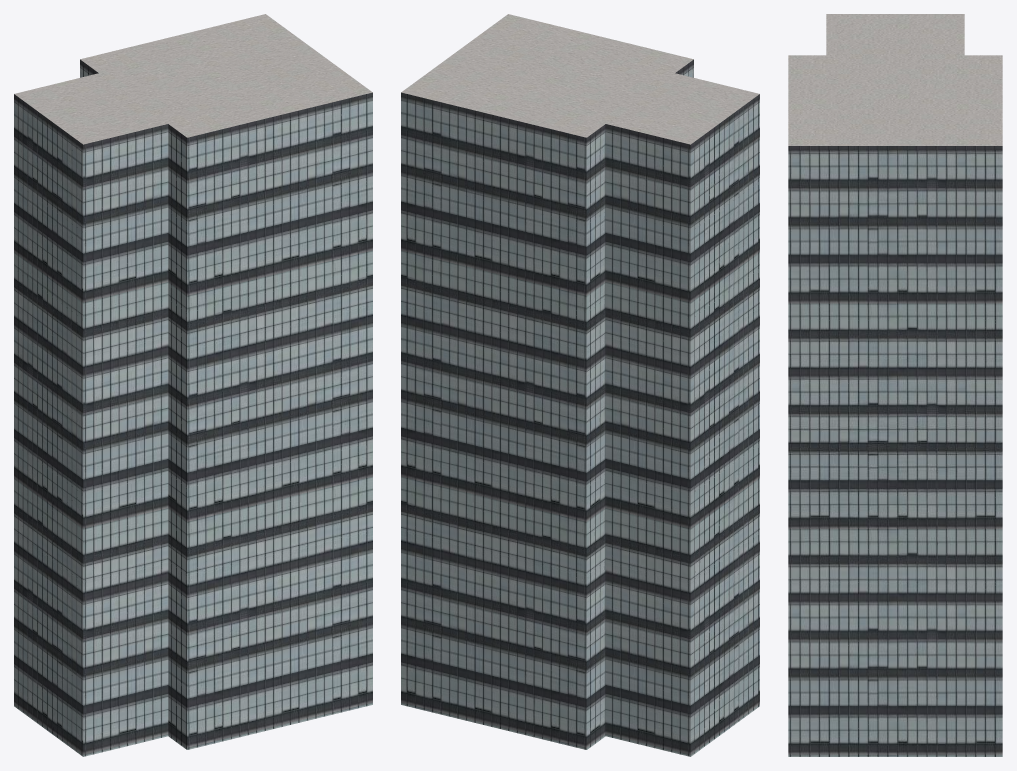
File: building_008_002.glb
3 renders of one model, left to right at view 1: azimuth 30°, elevation 25°; view 2: azimuth 150°, elevation 25°; view 3: azimuth 270°, elevation 25°, orthographic.
Parts seen in each view (by area): view 1: building_008.002; view 2: building_008.002; view 3: building_008.002.
Part boxes in pixels (<box>): building_008.002: <box>14,14,372,756</box>; building_008.002: <box>401,14,759,756</box>; building_008.002: <box>788,14,1002,756</box>.
Size of the model in its own units: 1457 by 3150 by 1000.
2 materials, 2 textured.
